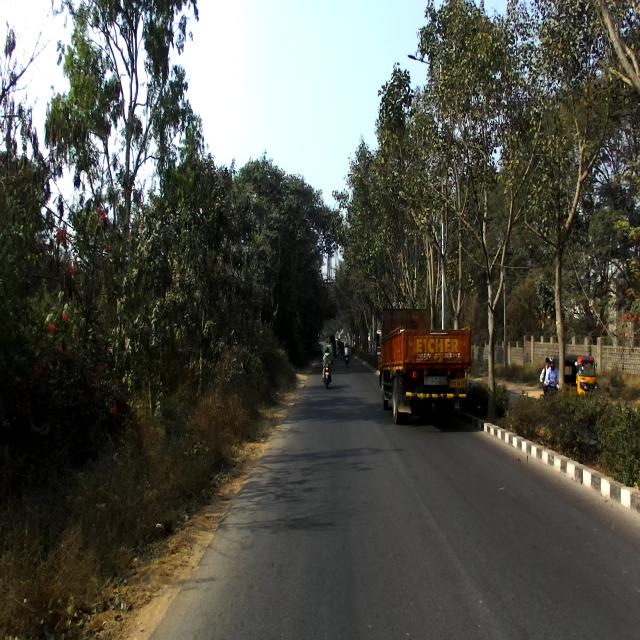truck ahead at: (377, 305, 475, 431)
